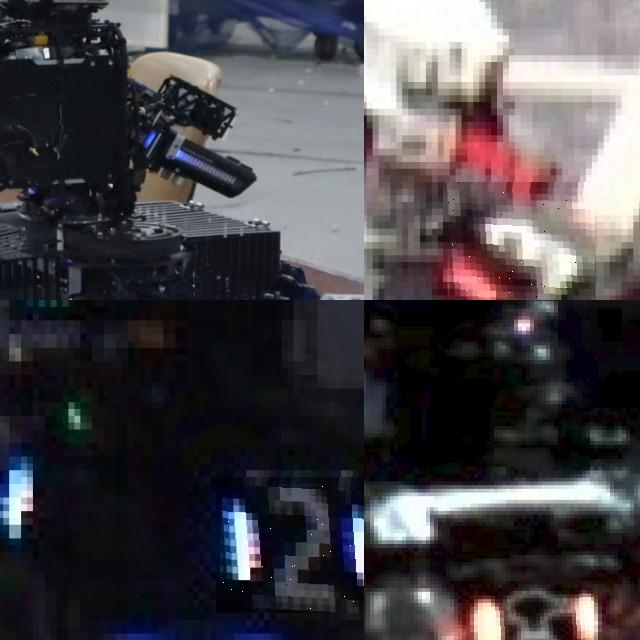B2: (216, 477, 364, 613)
R3: (443, 182, 597, 300)
Rs: (478, 588, 594, 640)
